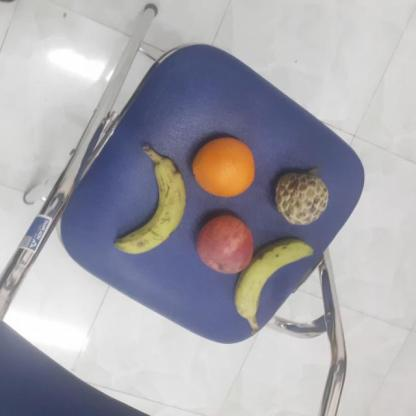annona: (274, 166, 331, 226)
apple: (192, 215, 257, 278)
banana: (111, 154, 185, 258), (234, 239, 317, 323)
orange: (191, 134, 256, 199)
